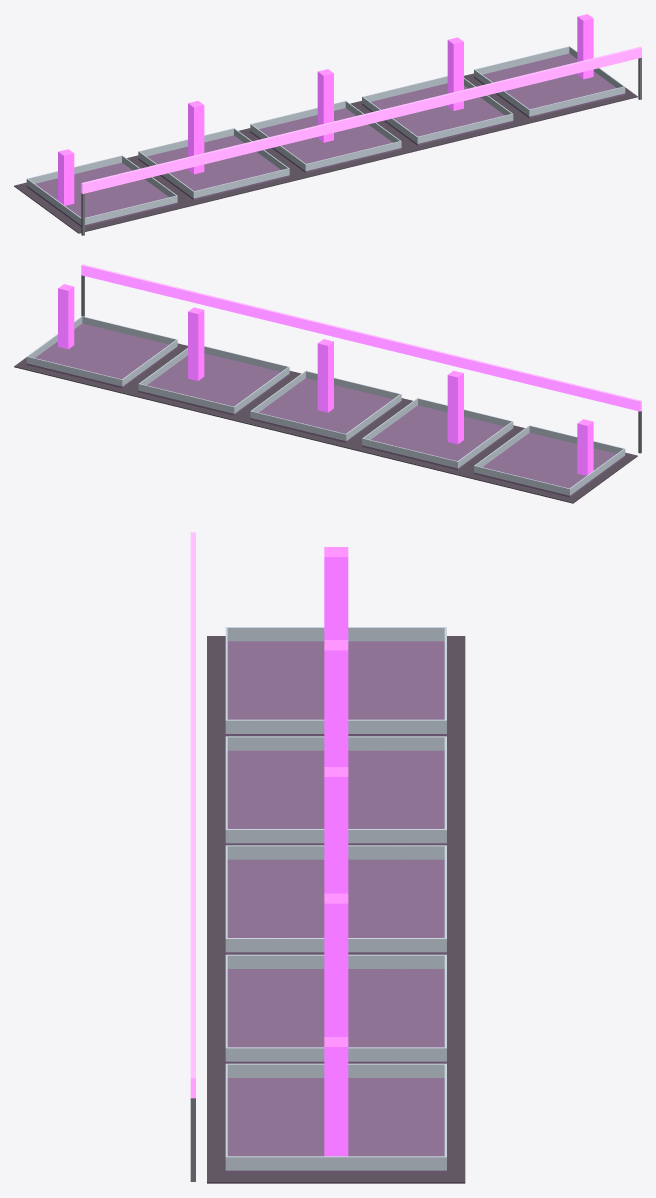
Rendered from pack-language-culture-communication.glb.
The picture shows the model from 3 angles, top to bottom: view 1: azimuth 30°, elevation 25°; view 2: azimuth 150°, elevation 25°; view 3: azimuth 270°, elevation 25°; orthographic projection. The views are drawn at different scales.
Visible parts, largest first — view 1: Language, Culture & Communication; view 2: Language, Culture & Communication; view 3: Language, Culture & Communication.
Part boxes in pixels (x1=…): Language, Culture & Communication: x1=14, y1=14, x2=641, y2=235; Language, Culture & Communication: x1=14, y1=264, x2=641, y2=503; Language, Culture & Communication: x1=190, y1=532, x2=465, y2=1183.
Size of the model in its own units: 70 by 8.3 by 14.9.
